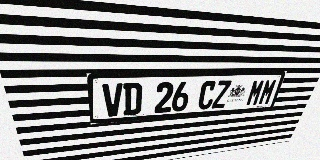2: (154, 82, 174, 113)
6: (171, 81, 191, 112)
C: (197, 81, 217, 110)
D: (123, 83, 142, 116)
M: (245, 79, 266, 106), (257, 79, 278, 105)
V: (102, 83, 122, 117)
Z: (211, 80, 232, 109)
